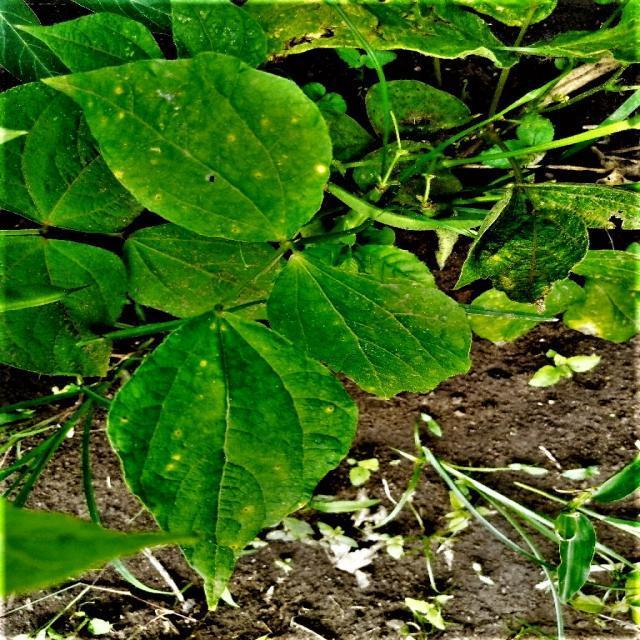embun tepung: (6, 3, 552, 467)
